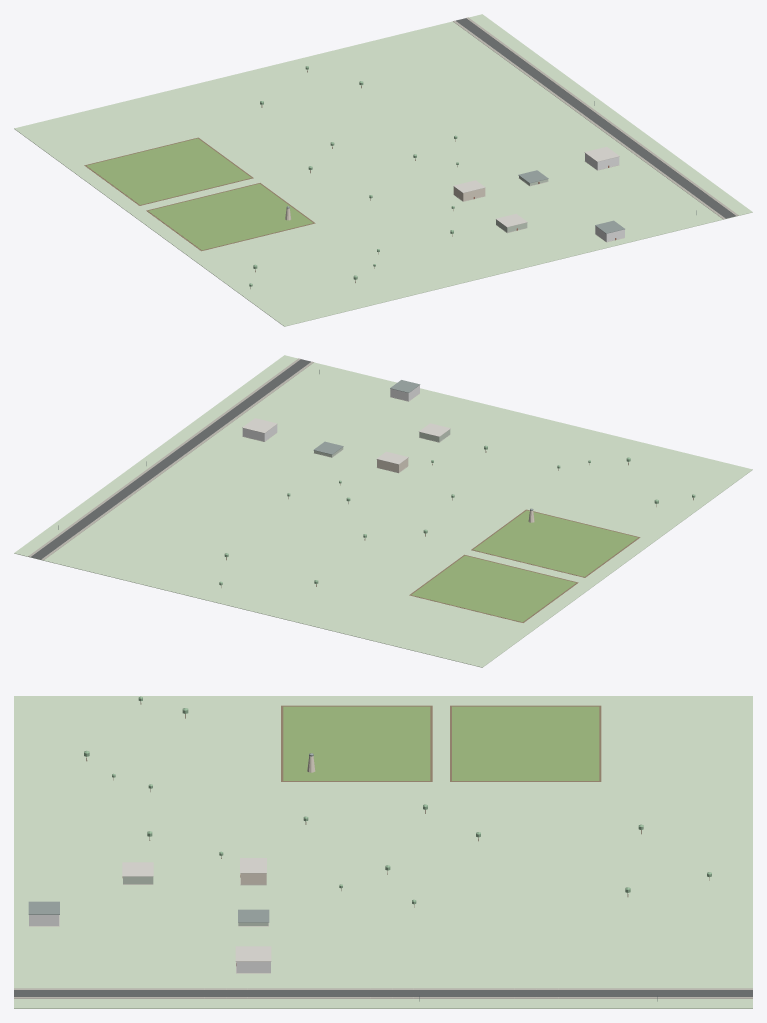
File: chunk_5_1_low.glb
3 renders of one model, top to bottom at view 1: azimuth 30°, elevation 25°; view 2: azimuth 150°, elevation 25°; view 3: azimuth 270°, elevation 25°, orthographic. The views are drawn at different scales.
Parts seen in each view (by area): view 1: city_grass, city_field_corn, city_world_asphalt, city_world_sidewalk, city_field_soil, city_roof_tile, city_brick, city_curb; view 2: city_grass, city_field_corn, city_world_asphalt, city_world_sidewalk, city_field_soil, city_roof_tile, city_brick, city_curb; view 3: city_grass, city_field_corn, city_world_asphalt, city_world_sidewalk, city_field_soil, city_roof_tile, city_roof_slate, city_curb, city_brick.
Part boxes in pixels (x1,y1,x2,y2): city_grass: (14,14,752,326); city_field_corn: (86,138,312,250); city_world_asphalt: (456,18,735,218); city_world_sidewalk: (453,17,738,219); city_field_soil: (84,137,315,251); city_roof_tile: (453,146,619,227); city_brick: (585,153,624,241); city_curb: (456,18,736,218); city_grass: (14,355,752,667); city_field_corn: (411,510,637,622); city_world_asphalt: (31,359,310,559); city_world_sidewalk: (28,358,313,560); city_field_soil: (409,509,640,622); city_roof_tile: (242,418,450,464); city_brick: (242,385,419,441); city_curb: (30,359,310,559); city_grass: (14,696,752,1008); city_field_corn: (283,706,599,780); city_world_asphalt: (14,990,752,996); city_world_sidewalk: (14,988,752,998); city_field_soil: (281,705,601,781); city_roof_tile: (122,858,271,961); city_roof_slate: (28,753,313,922); city_curb: (14,988,752,998); city_brick: (29,915,270,972).
Size of the model in its own units: 512 by 13.99 by 512.
